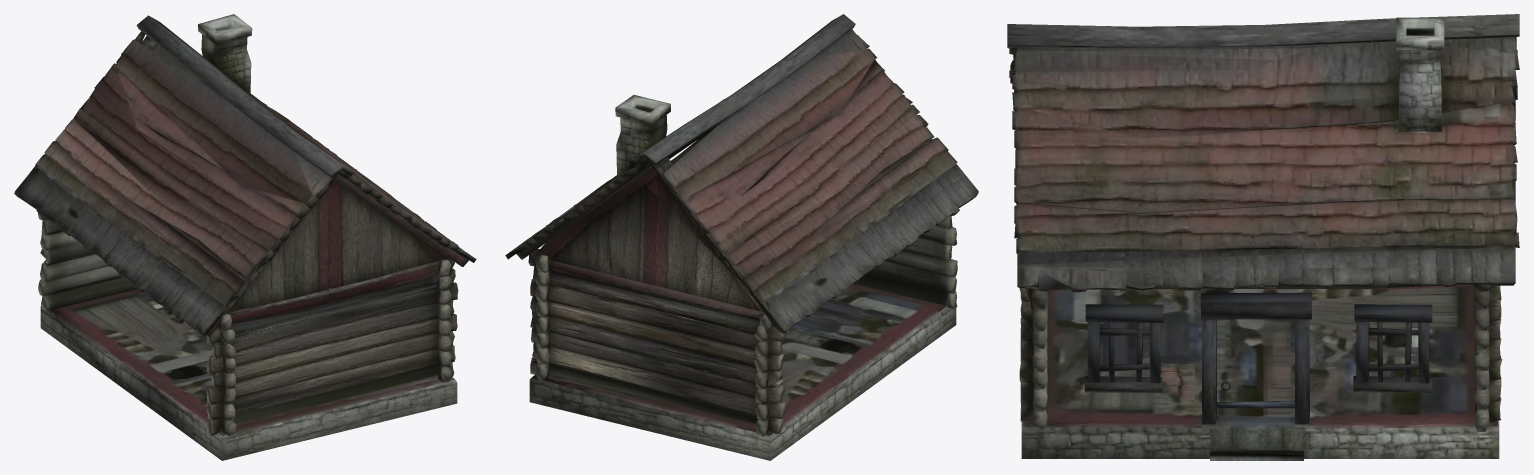
The model's file is lodge.glb.
The picture shows the model from 3 angles, left to right: view 1: azimuth 30°, elevation 25°; view 2: azimuth 150°, elevation 25°; view 3: azimuth 270°, elevation 25°; orthographic projection. The views are drawn at different scales.
Visible parts, largest first — view 1: model; view 2: model; view 3: model.
Boxes of the visible parts, bbox=[...] form: model: bbox=[14, 14, 476, 460]; model: bbox=[505, 14, 978, 460]; model: bbox=[1007, 14, 1519, 460].
Size of the model in its own units: 1.01 by 1 by 1.23.
1 material, 1 textured.
